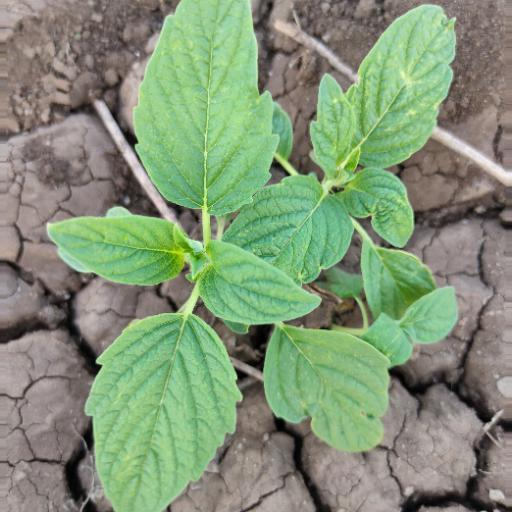crop: (41, 3, 462, 506)
